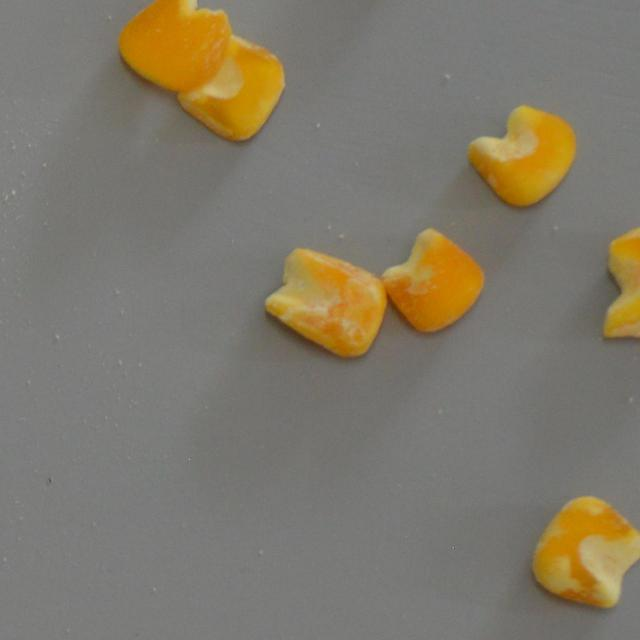dañado: (172, 29, 294, 152), (527, 490, 640, 613), (111, 0, 236, 100), (380, 224, 488, 338)
pelicula: (259, 241, 388, 362), (463, 100, 585, 212), (599, 218, 640, 348)
